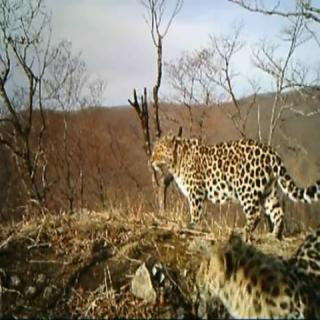Leopard: (141, 130, 320, 255)
